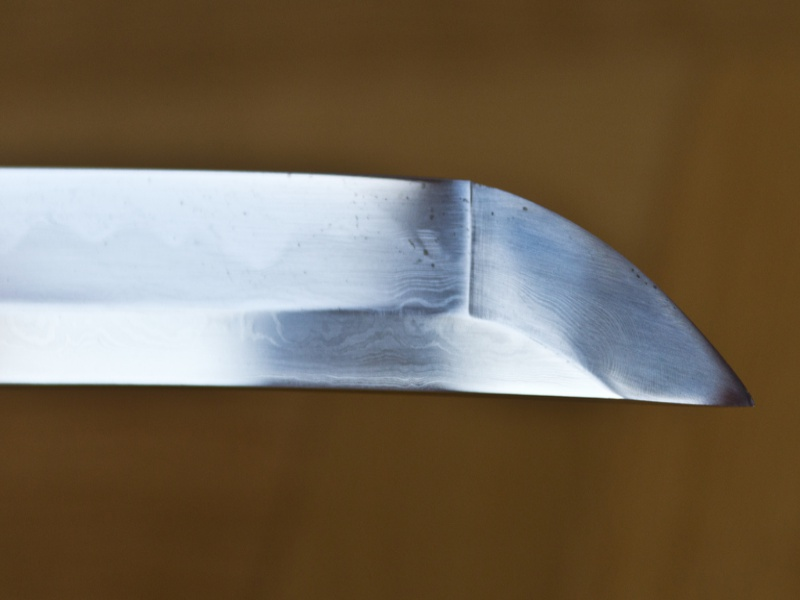knife: (1, 158, 759, 410)
